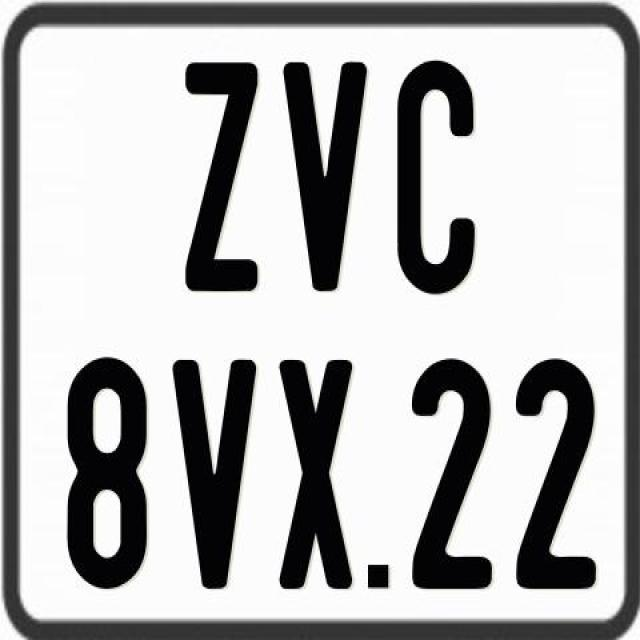2: (412, 355, 499, 592), (512, 353, 600, 584)
8: (66, 357, 154, 597)
C: (397, 56, 483, 296)
V: (174, 358, 262, 596), (283, 62, 368, 293)
X: (276, 358, 348, 597)
Z: (184, 61, 263, 292)
